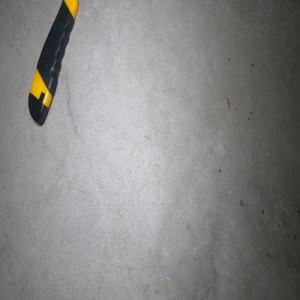Cutter: (27, 0, 80, 126)
